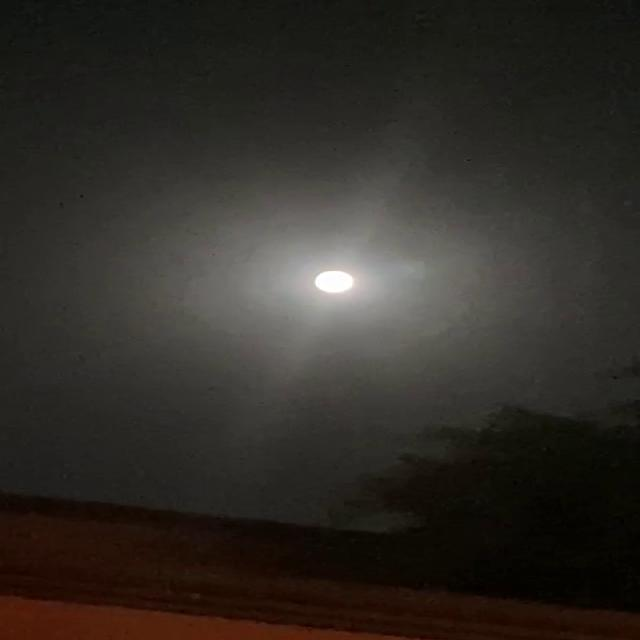moon: (390, 266, 454, 296)
